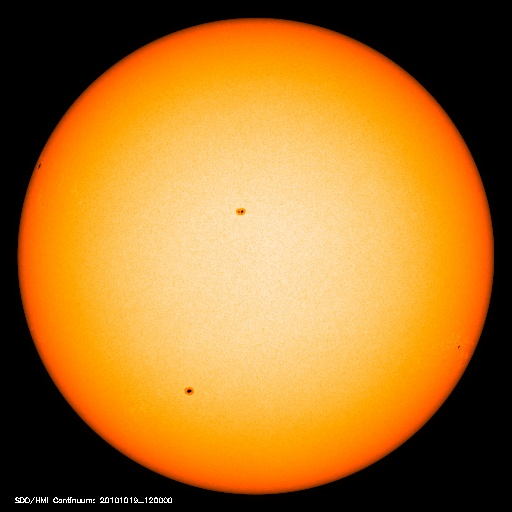sunspot: (176, 378, 205, 402), (227, 199, 253, 221), (29, 153, 52, 177), (448, 334, 469, 360)
